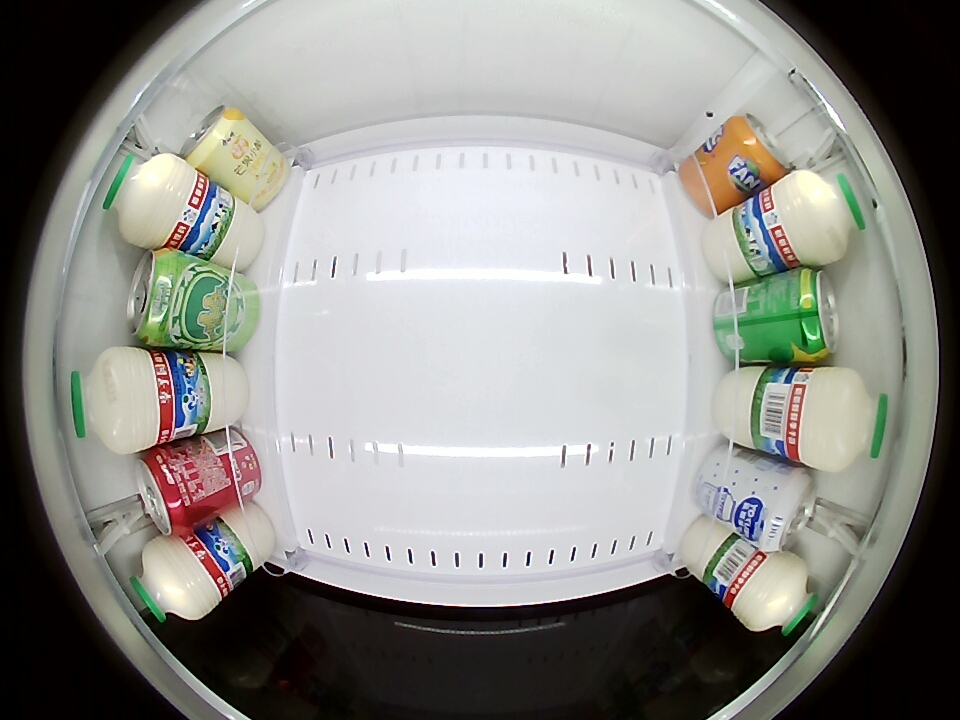fenda: (727, 111, 797, 183)
kele: (135, 446, 193, 534)
liziyuan: (779, 367, 886, 471), (67, 346, 164, 455), (101, 152, 202, 249), (770, 175, 869, 264), (130, 534, 224, 624), (729, 551, 818, 638)
mangguoxiaolao: (180, 105, 243, 168)
quchenshixiangcao: (127, 250, 180, 344)
rusuanjunqishui: (757, 465, 818, 550)
xuebi2: (784, 269, 839, 362)
